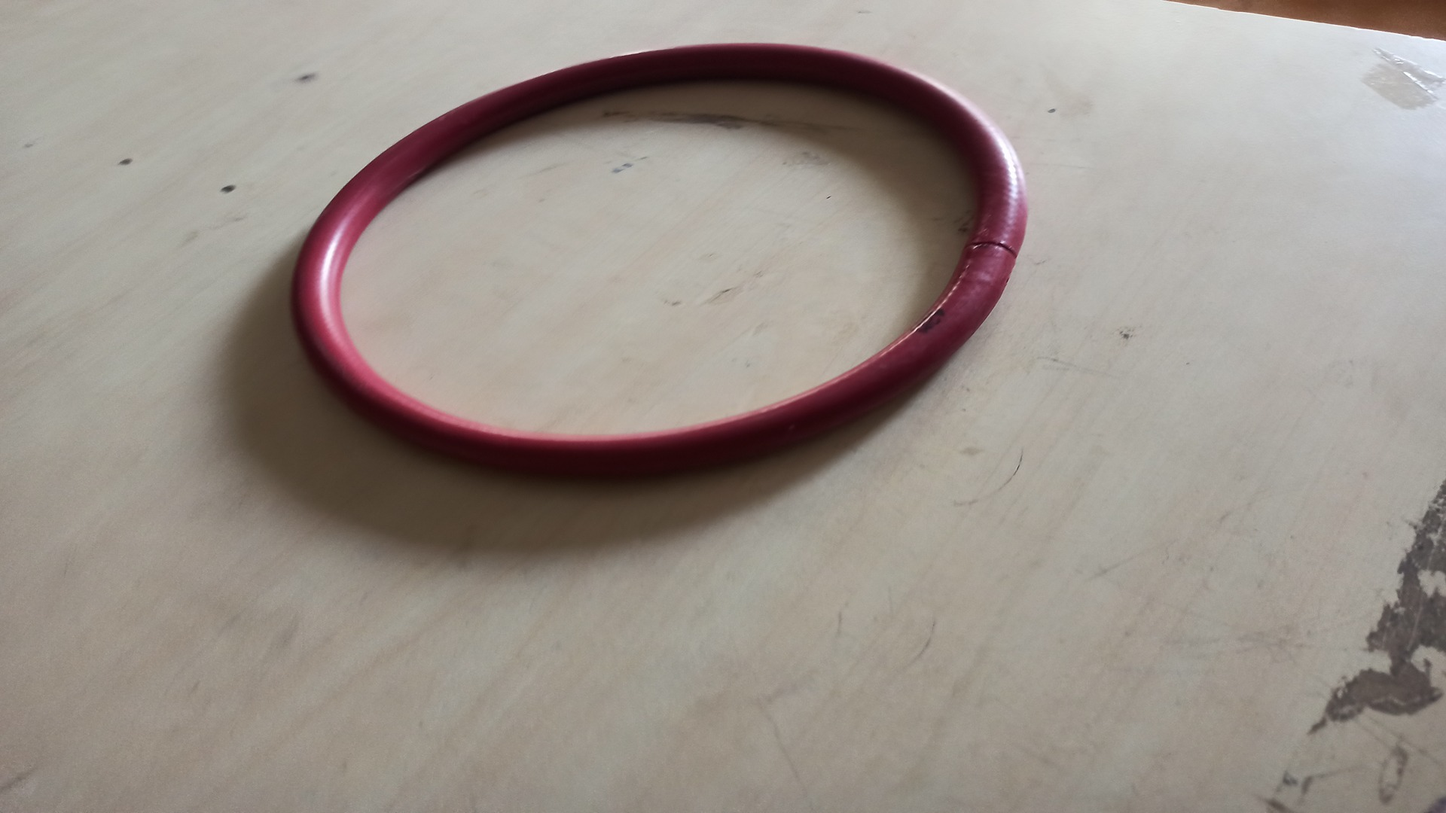Red ring: (290, 41, 1033, 463)
